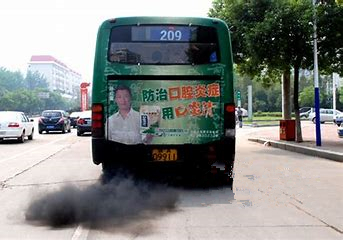smoke: (22, 176, 179, 229)
